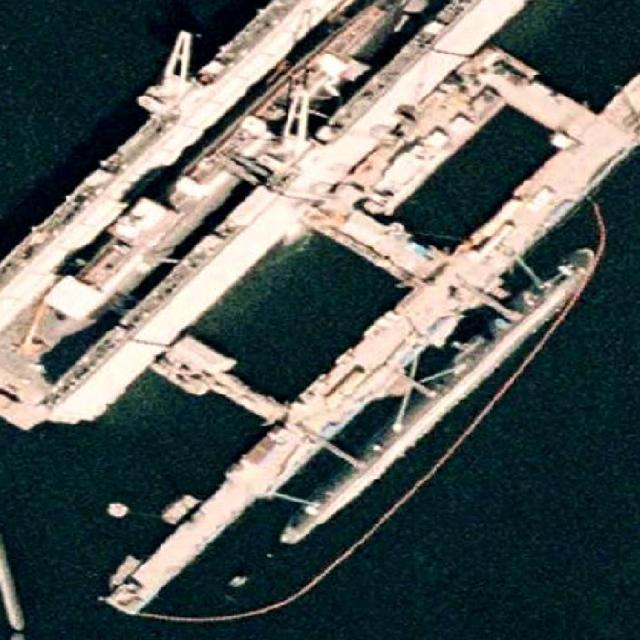Dock: (93, 110, 638, 629)
Submarine: (268, 238, 606, 556)
